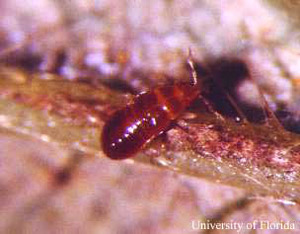Mites: (89, 53, 198, 176)
